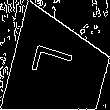L_E: (33, 47, 84, 91)
